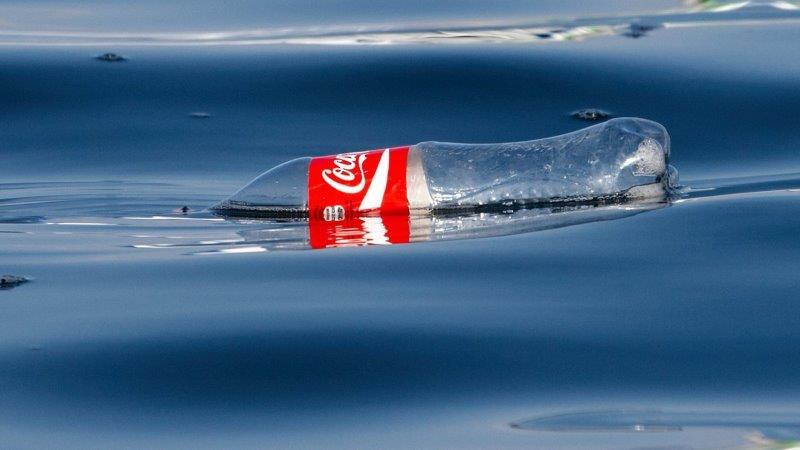plastic: (151, 113, 674, 244)
